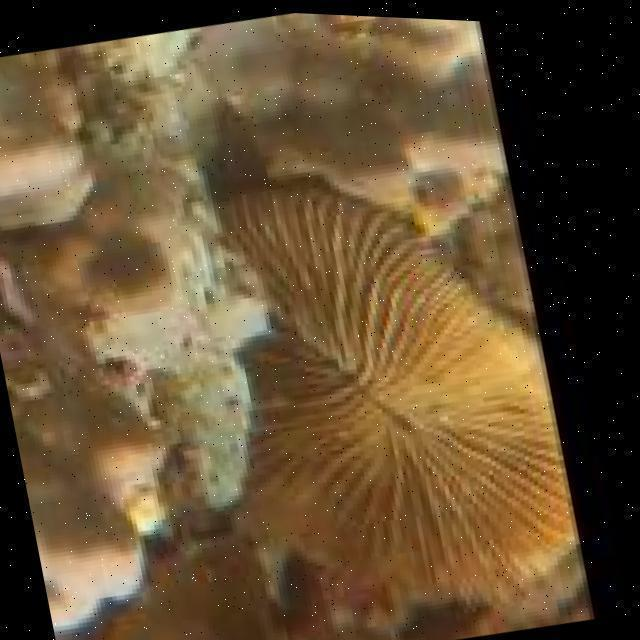Healthy Coral: (218, 178, 554, 640)
